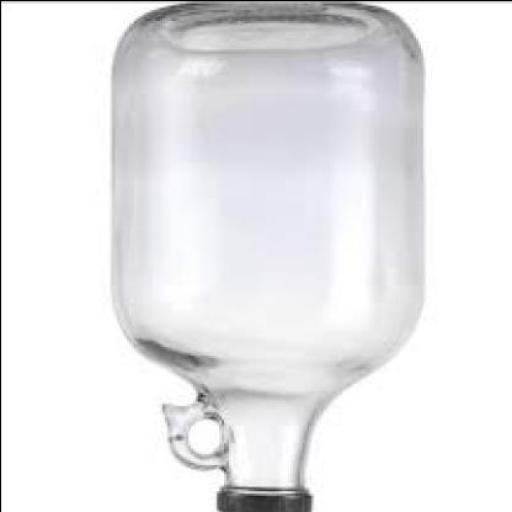glass: (111, 2, 424, 496)
metal: (220, 487, 314, 511)
